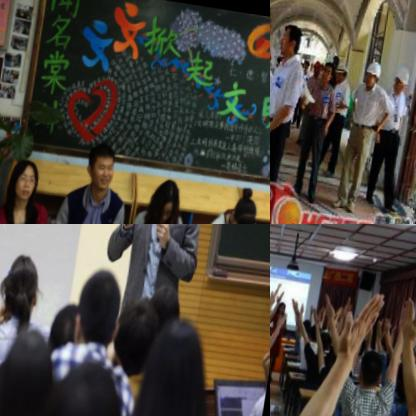head: (144, 310, 217, 416), (0, 320, 64, 416), (46, 352, 133, 416), (113, 289, 172, 382), (76, 265, 133, 350), (1, 245, 48, 318), (146, 273, 190, 342), (151, 170, 186, 223), (88, 139, 124, 190), (13, 154, 44, 199), (232, 179, 262, 224), (363, 341, 389, 384), (316, 323, 337, 349), (277, 294, 290, 313), (310, 318, 324, 335), (304, 310, 316, 326)
helmet: (367, 53, 390, 86), (395, 59, 416, 92), (338, 55, 357, 81), (270, 24, 278, 63)
